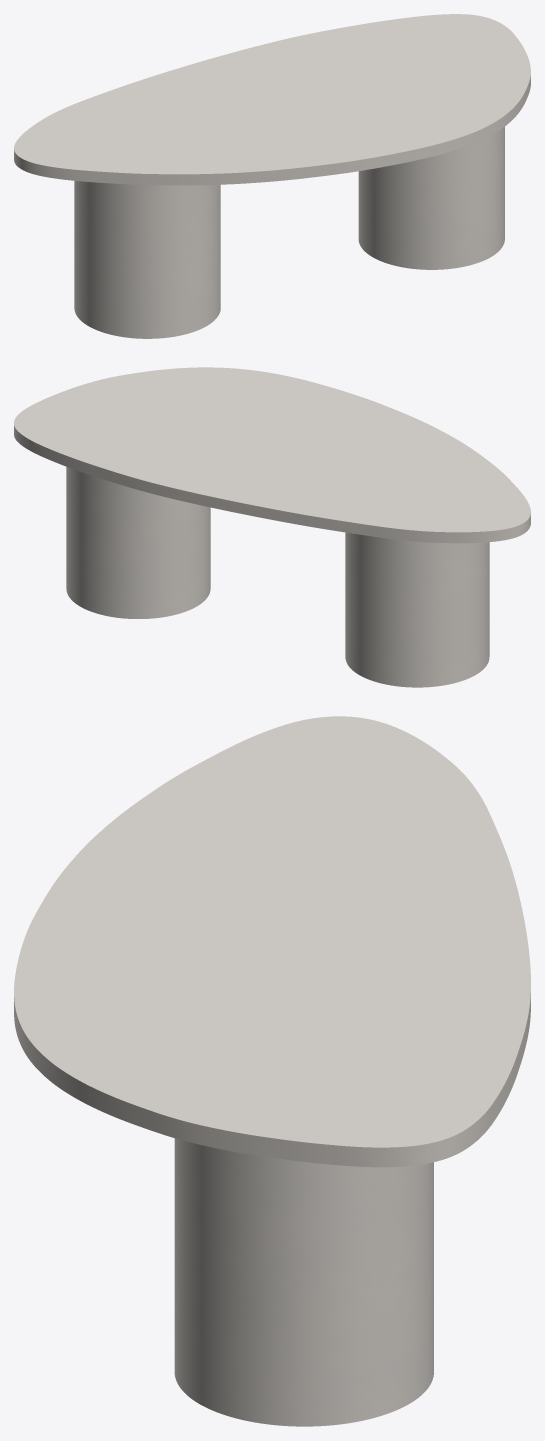
Rendered from pearlwhite_pebbletop_standard_stream.glb.
3 renders of one model, top to bottom at view 1: azimuth 30°, elevation 25°; view 2: azimuth 150°, elevation 25°; view 3: azimuth 270°, elevation 25°, orthographic. The views are drawn at different scales.
Parts seen in each view (by area): view 1: pebbletop, tableleg_stream.033; view 2: pebbletop, tableleg_stream.033; view 3: pebbletop, tableleg_stream.033.
Boxes of the visible parts, x1=… form: pebbletop: x1=14, y1=14, x2=530, y2=185; tableleg_stream.033: x1=74, y1=127, x2=504, y2=338; pebbletop: x1=14, y1=367, x2=530, y2=543; tableleg_stream.033: x1=66, y1=466, x2=489, y2=687; pebbletop: x1=14, y1=716, x2=530, y2=1167; tableleg_stream.033: x1=174, y1=1138, x2=433, y2=1426.
Bounding box in the file's own units: 7.5 × 2.49 × 3.8.
Materials: 1 (1 with a texture image).
